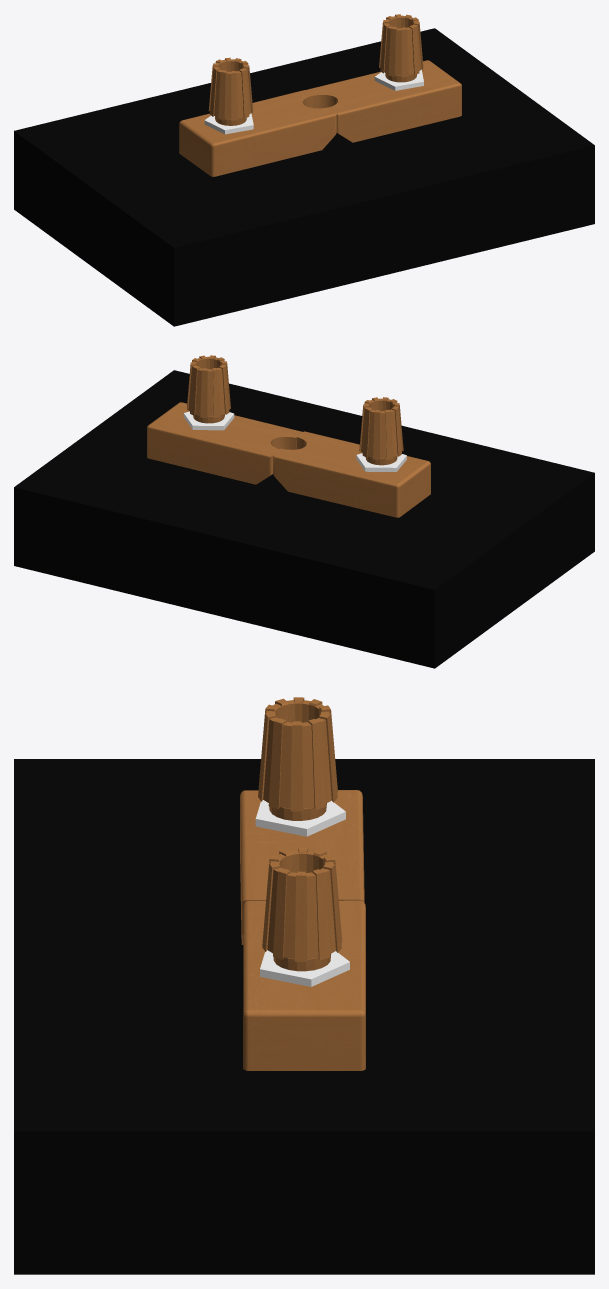
Rendered from Key-no-top.gltf.
3 renders of one model, top to bottom at view 1: azimuth 30°, elevation 25°; view 2: azimuth 150°, elevation 25°; view 3: azimuth 270°, elevation 25°, orthographic. The views are drawn at different scales.
Parts seen in each view (by area): view 1: Cube.001, polySurface1_Wood_1_0.002, polySurface1_Wood_1_0.003, pCylinder7_Black_0.001, pCylinder7_Black_0.002, pCylinder8_Chrom_0.001, pCylinder8_Chrom_0.002; view 2: Cube.001, polySurface1_Wood_1_0.002, polySurface1_Wood_1_0.003, pCylinder7_Black_0.002, pCylinder7_Black_0.001, pCylinder8_Chrom_0.001, pCylinder8_Chrom_0.002; view 3: Cube.001, polySurface1_Wood_1_0.003, pCylinder7_Black_0.001, pCylinder7_Black_0.002, polySurface1_Wood_1_0.002, pCylinder8_Chrom_0.002, pCylinder8_Chrom_0.001.
Boxes of the visible parts, x1,y1,x2,y2 form: Cube.001: (14, 28, 594, 326); polySurface1_Wood_1_0.002: (179, 90, 336, 176); polySurface1_Wood_1_0.003: (305, 60, 461, 142); pCylinder7_Black_0.001: (379, 14, 423, 82); pCylinder7_Black_0.002: (208, 57, 252, 125); pCylinder8_Chrom_0.001: (374, 69, 423, 90); pCylinder8_Chrom_0.002: (204, 113, 253, 134); Cube.001: (14, 370, 594, 668); polySurface1_Wood_1_0.002: (273, 431, 430, 517); polySurface1_Wood_1_0.003: (147, 402, 302, 484); pCylinder7_Black_0.002: (359, 397, 403, 465); pCylinder7_Black_0.001: (187, 355, 230, 423); pCylinder8_Chrom_0.001: (183, 411, 234, 430); pCylinder8_Chrom_0.002: (356, 453, 406, 471); Cube.001: (14, 759, 594, 1274); polySurface1_Wood_1_0.003: (243, 900, 365, 1070); pCylinder7_Black_0.001: (262, 847, 342, 971); pCylinder7_Black_0.002: (258, 697, 337, 820); polySurface1_Wood_1_0.002: (240, 790, 364, 944); pCylinder8_Chrom_0.002: (255, 800, 345, 836); pCylinder8_Chrom_0.001: (260, 950, 349, 986).
Bounding box in the file's own units: 1.63 × 0.6362 × 1.07.
6 materials, 3 textured.
